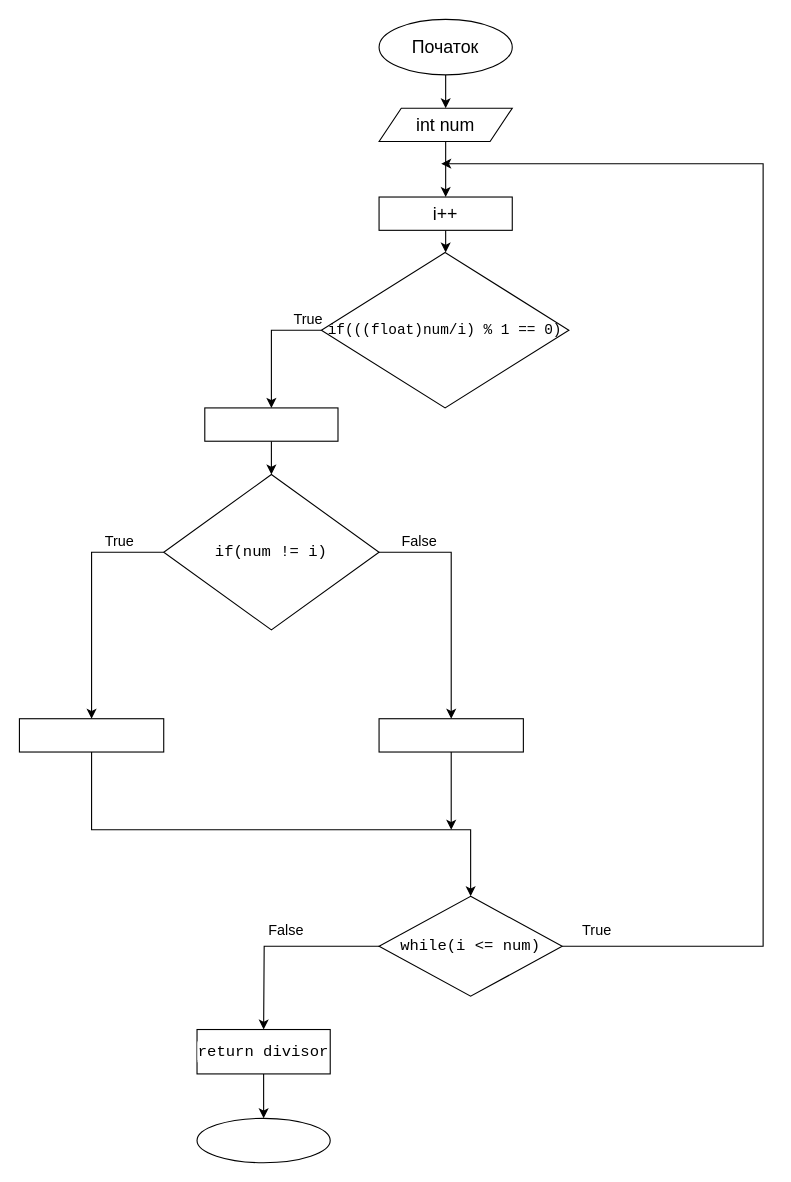
The diagram is 791 pixels wide and 1182 high, and some of its shapes have lost their labels. Each missing label, with the centre of its shape:
divisor += ", ";: the point at 91,735
divisor += ".";: the point at 450,735
divisor += i;: the point at 271,424
Кінець: the point at 263,1140
